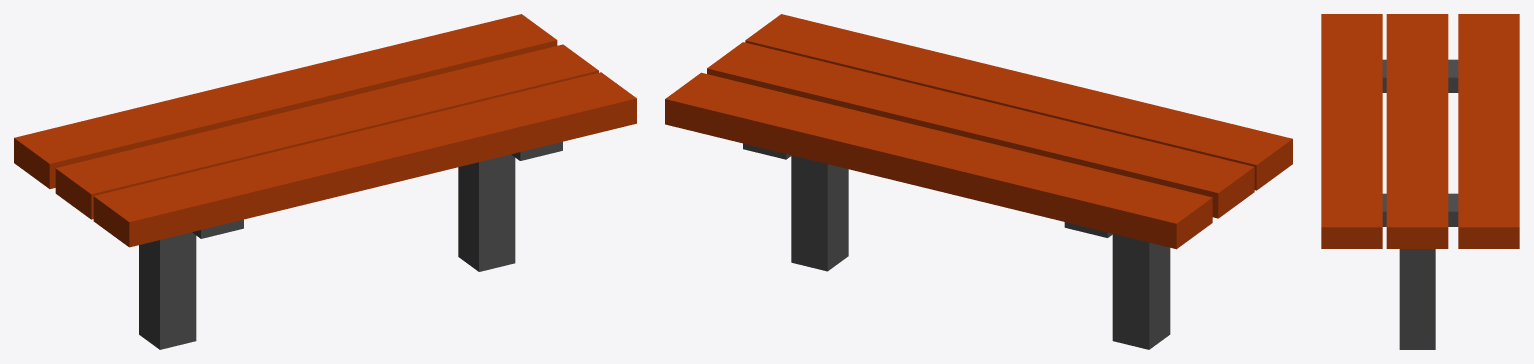
The model's file is bench.fbx.
3 renders of one model, left to right at view 1: azimuth 30°, elevation 25°; view 2: azimuth 150°, elevation 25°; view 3: azimuth 270°, elevation 25°, orthographic. The views are drawn at different scales.
Visible parts, largest first — view 1: Cube.003, Cube.004, Cube.002, Cube.001, Cube, Cube.005; view 2: Cube.004, Cube.002, Cube.003, Cube.001, Cube, Cube.005; view 3: Cube.002, Cube.003, Cube.004, Cube, Cube.005.
Part boxes in pixels (x1,y1,x2,y2): Cube.003: (93, 72, 636, 247); Cube.004: (14, 14, 557, 188); Cube.002: (55, 44, 598, 219); Cube.001: (139, 232, 196, 349); Cube: (458, 154, 515, 271); Cube.005: (192, 141, 562, 238); Cube.004: (665, 72, 1212, 249); Cube.002: (707, 42, 1254, 218); Cube.003: (745, 14, 1292, 190); Cube.001: (1112, 234, 1170, 349); Cube: (791, 155, 848, 271); Cube.005: (743, 143, 1112, 237); Cube.002: (1386, 14, 1448, 248); Cube.003: (1321, 14, 1382, 248); Cube.004: (1458, 14, 1519, 248); Cube: (1399, 249, 1435, 349); Cube.005: (1382, 59, 1458, 226).
Bounding box in the file's own units: 636 × 215 × 250.
